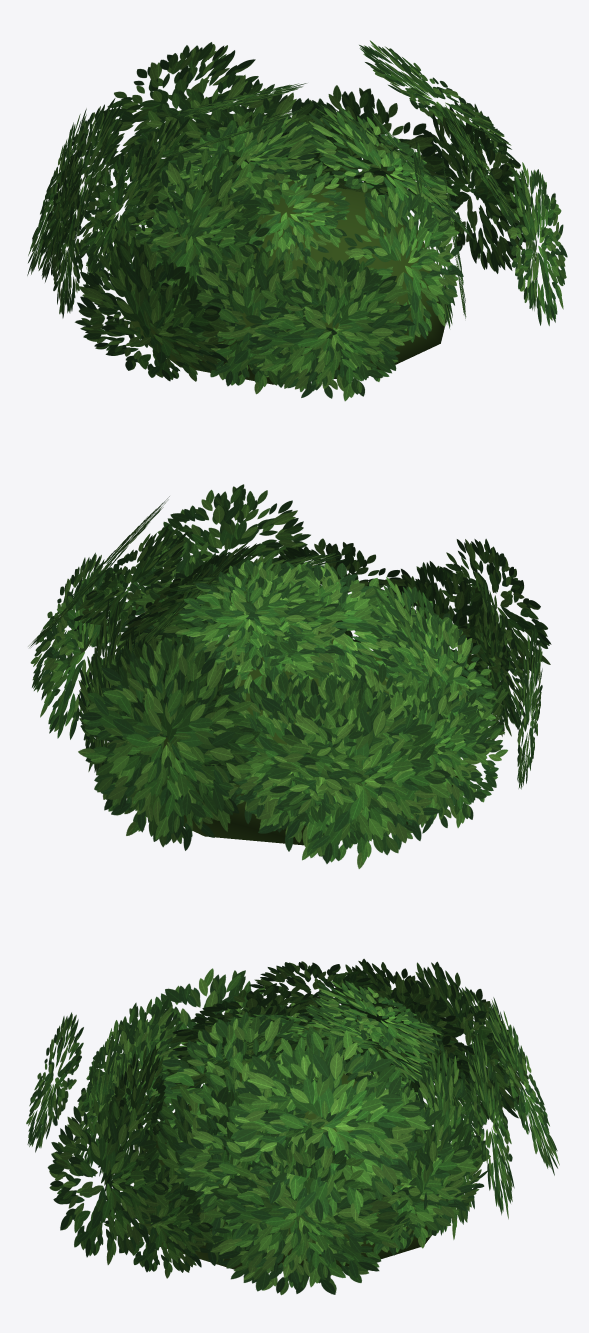
The model's file is n-bushLarge.glb.
3 views of the same model, one above another, from view 1: azimuth 30°, elevation 25°; view 2: azimuth 150°, elevation 25°; view 3: azimuth 270°, elevation 25° (orthographic). The views are drawn at different scales.
Parts seen in each view (by area): view 1: bush, bush_core; view 2: bush, bush_core; view 3: bush, bush_core.
Boxes of the visible parts, <box> form: bush: <box>27,40,567,401</box>; bush_core: <box>129,178,450,384</box>; bush: <box>28,484,551,868</box>; bush_core: <box>159,631,458,845</box>; bush: <box>26,959,559,1295</box>; bush_core: <box>132,1072,437,1271</box>.
Size of the model in its own units: 2.69 by 1.42 by 2.75.
Materials: 2 (1 with a texture image).
